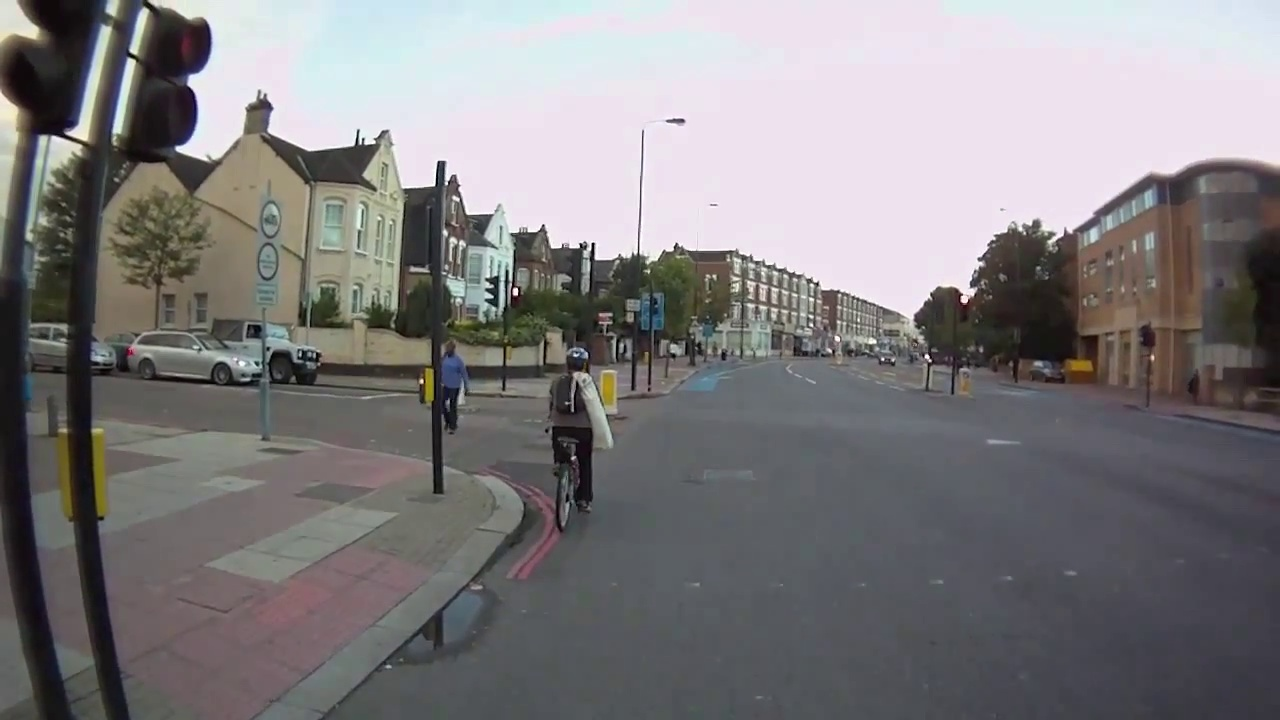cyclist_back: (546, 348, 613, 544)
